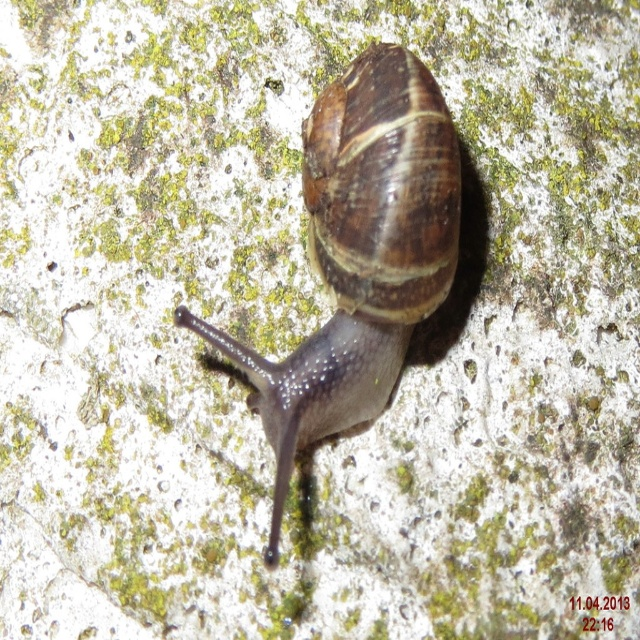Snail: (173, 42, 460, 570)
